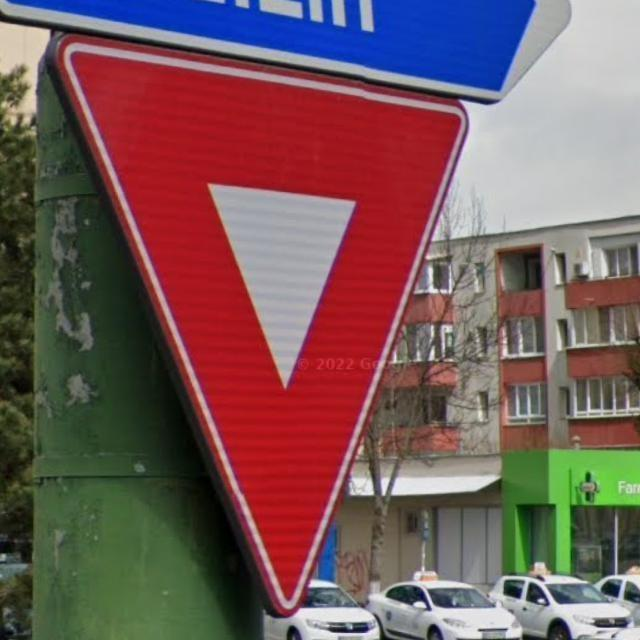prio_give_way: (38, 27, 464, 615)
